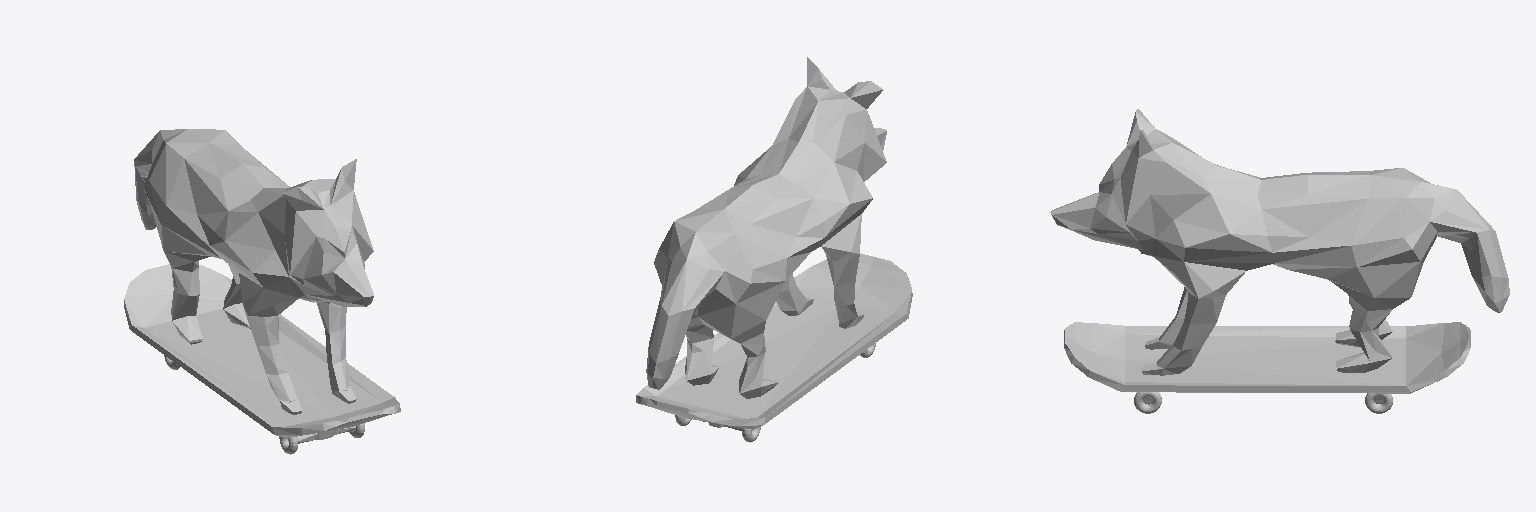
Rendered from Fuchs13.obj.
The picture shows the model from 3 angles: view 1: azimuth 30°, elevation 25°; view 2: azimuth 150°, elevation 25°; view 3: azimuth 270°, elevation 25°; orthographic projection.
Size of the model in its own units: 3.58 by 7.89 by 11.65.